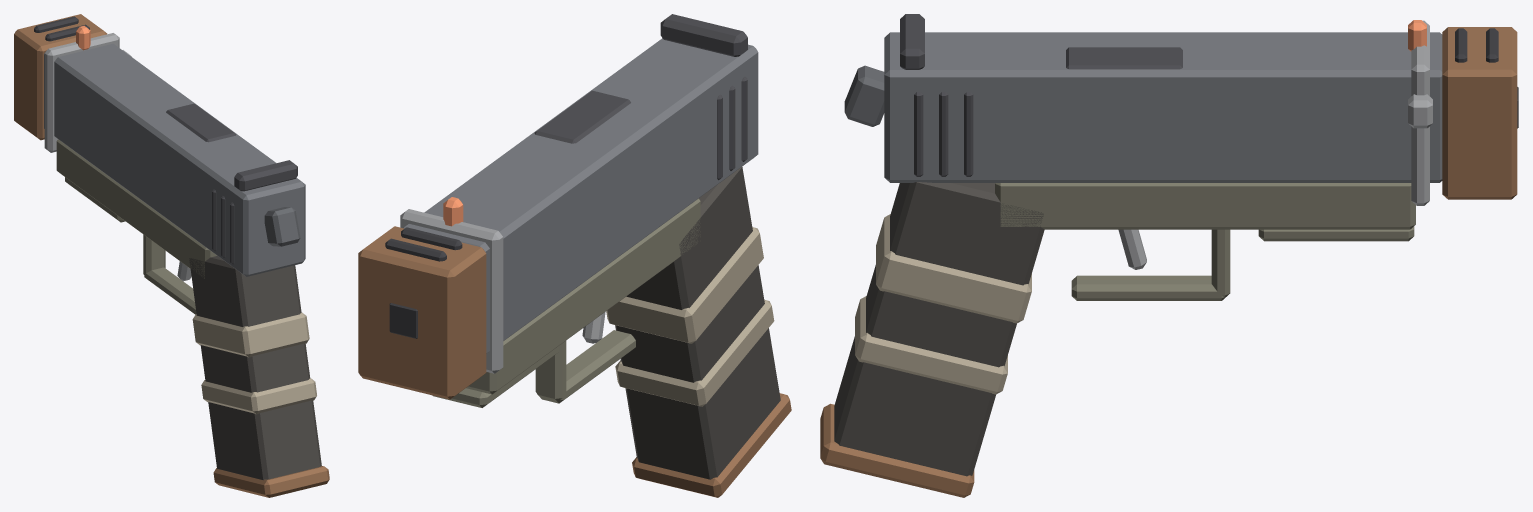
File: scrap_pistol.glb
3 renders of one model, left to right at view 1: azimuth 30°, elevation 25°; view 2: azimuth 150°, elevation 25°; view 3: azimuth 270°, elevation 25°, orthographic. The views are drawn at different scales.
Parts seen in each view (by area): view 1: Frame, Slide; view 2: Frame, Slide; view 3: Frame, Slide.
Boxes of the visible parts, <box> form: Frame: <box>14,14,329,497</box>; Slide: <box>44,25,305,276</box>; Frame: <box>358,166,791,497</box>; Slide: <box>403,14,758,353</box>; Frame: <box>820,20,1518,497</box>; Slide: <box>884,14,1442,182</box>.
Bounding box in the file's own units: 0.0425 × 0.1618 × 0.2241.
